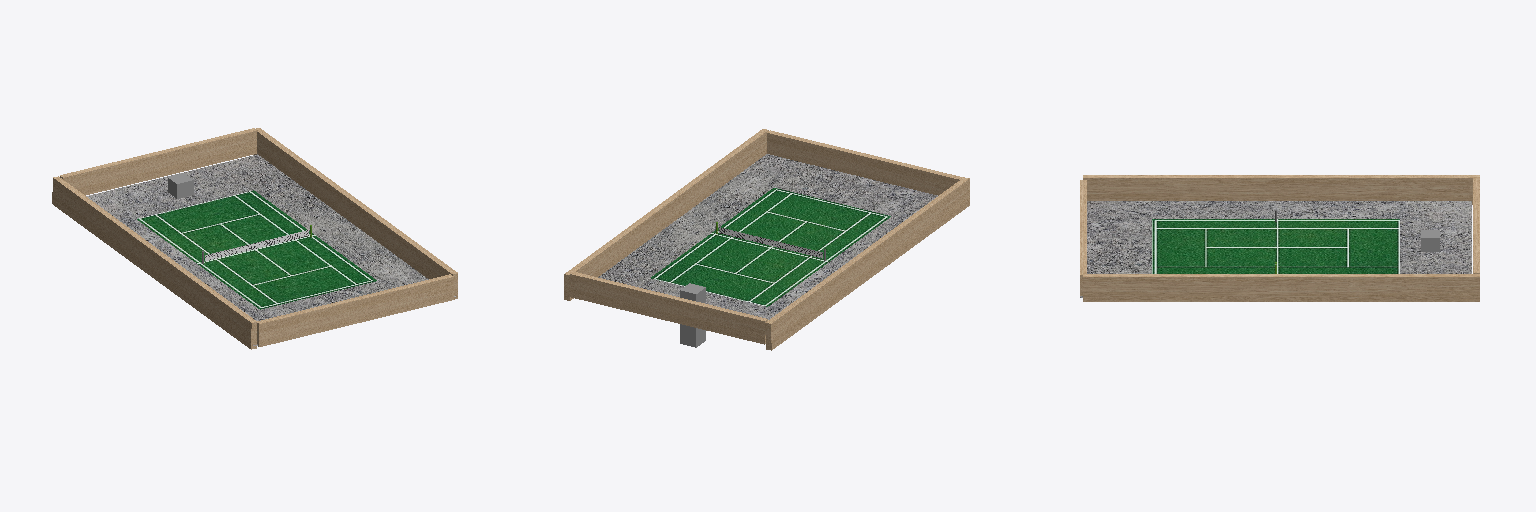
3 renders of one model, left to right at view 1: azimuth 30°, elevation 25°; view 2: azimuth 150°, elevation 25°; view 3: azimuth 270°, elevation 25°, orthographic.
Visible parts, largest first — view 1: Plane.002_Plane.004, Plane_Plane.001, Cube.001_Cube.003, Cube_Cube.002, Cube.003_Cube.005, Cube.002_Cube.004, Plane.001_Plane, Cube.008; view 2: Plane.002_Plane.004, Plane_Plane.001, Cube.001_Cube.003, Cube_Cube.002, Cube.002_Cube.004, Cube.003_Cube.005, Cube.008, Plane.001_Plane; view 3: Plane.002_Plane.004, Plane_Plane.001, Cube_Cube.002, Cube.001_Cube.003, Cube.003_Cube.005, Cube.002_Cube.004.
Part boxes in pixels (bbox=[...]): Plane.002_Plane.004: bbox=[86, 154, 455, 345]; Plane_Plane.001: bbox=[137, 190, 376, 309]; Cube.001_Cube.003: bbox=[52, 176, 256, 349]; Cube_Cube.002: bbox=[254, 128, 457, 299]; Cube.003_Cube.005: bbox=[257, 274, 453, 346]; Cube.002_Cube.004: bbox=[60, 128, 257, 195]; Plane.001_Plane: bbox=[205, 230, 308, 260]; Cube.008: bbox=[168, 173, 193, 198]; Plane.002_Plane.004: bbox=[598, 154, 937, 319]; Plane_Plane.001: bbox=[651, 188, 890, 306]; Cube.001_Cube.003: bbox=[765, 177, 969, 350]; Cube_Cube.002: bbox=[564, 129, 768, 300]; Cube.002_Cube.004: bbox=[570, 272, 767, 344]; Cube.003_Cube.005: bbox=[767, 130, 963, 195]; Cube.008: bbox=[680, 283, 705, 347]; Plane.001_Plane: bbox=[719, 227, 822, 258]; Plane.002_Plane.004: bbox=[1080, 201, 1471, 297]; Plane_Plane.001: bbox=[1152, 219, 1399, 273]; Cube_Cube.002: bbox=[1083, 274, 1479, 301]; Cube.001_Cube.003: bbox=[1083, 175, 1479, 204]; Cube.003_Cube.005: bbox=[1080, 180, 1086, 295]; Cube.002_Cube.004: bbox=[1473, 178, 1479, 273].
Bounding box in the file's own units: 24.99 × 7.17 × 41.76.
11 materials, 7 textured.